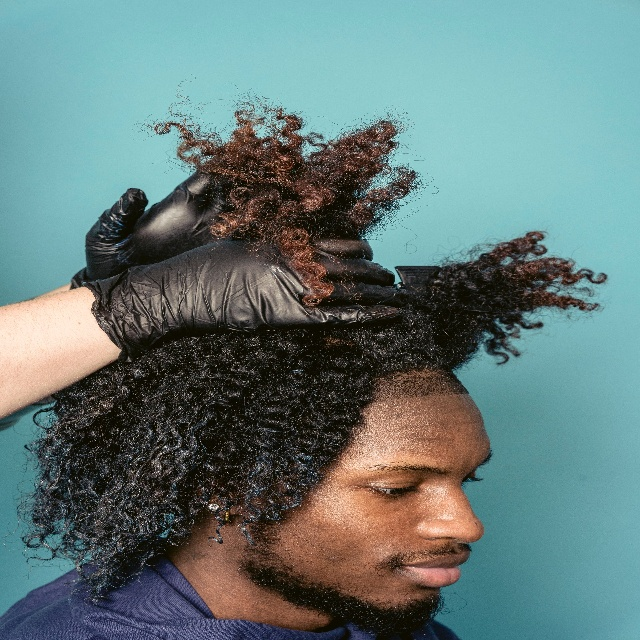Guantes: (87, 240, 399, 362), (70, 168, 227, 290)
